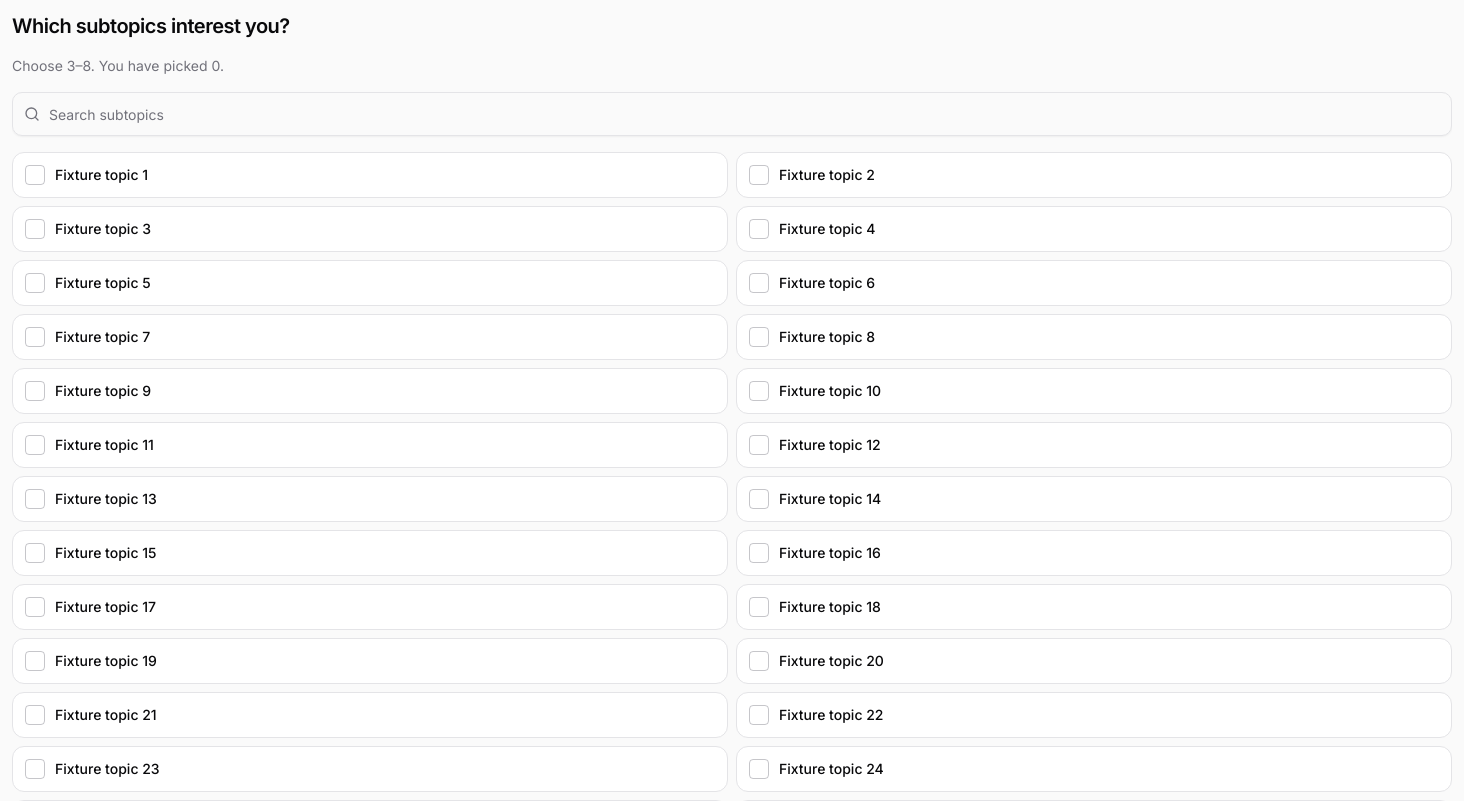
Test case: step panels › adds search when the list is long (subtopics)
The width and height of the screenshot is (1464, 801).
Type "Fixture topic 39" into the search field at (732, 114), box [12,92,1452,136]
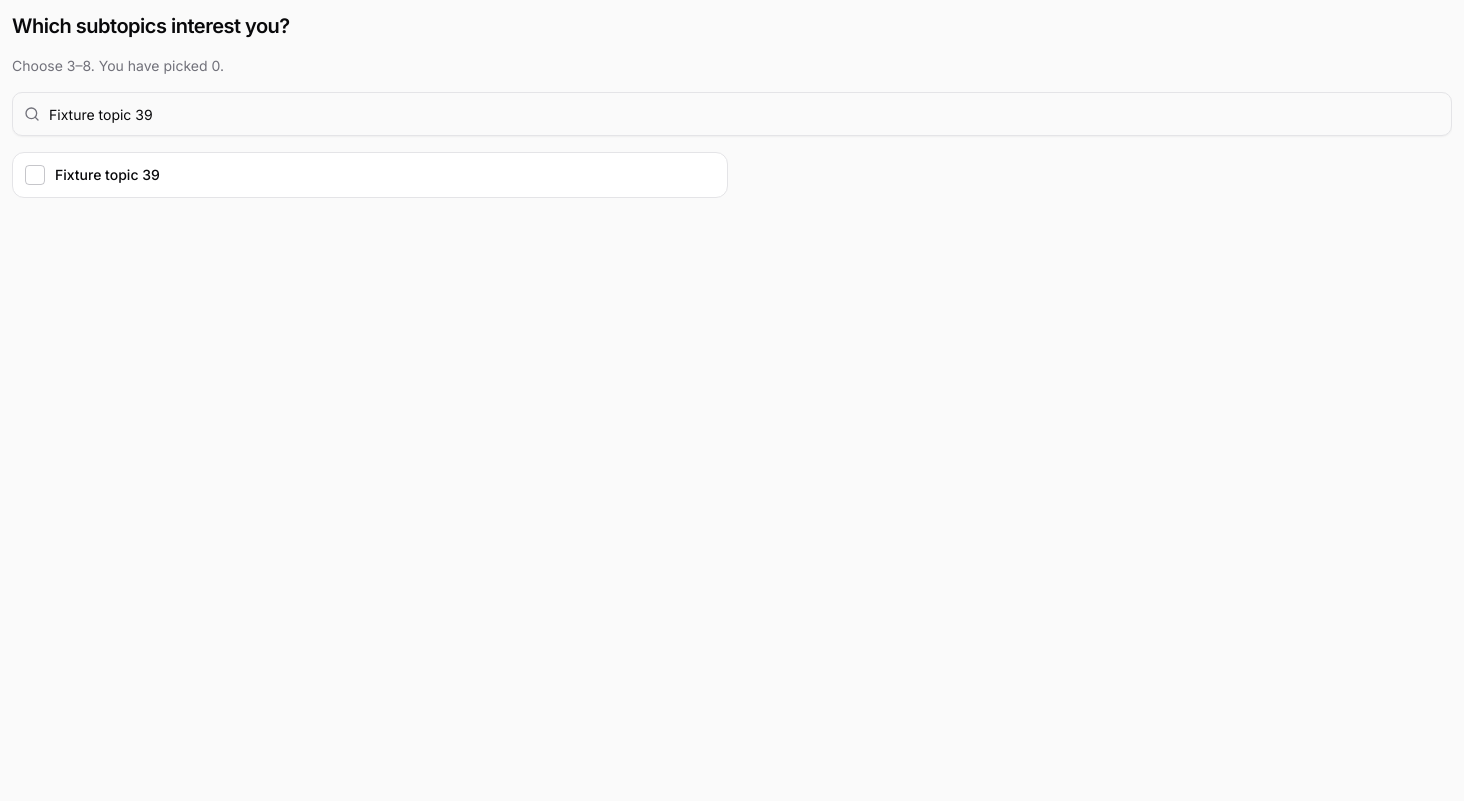
Expected: the text "Fixture topic 39" is shown, [55,165,160,185]
Result: the number of checkboxes is 1 at [12,152,728,198]
